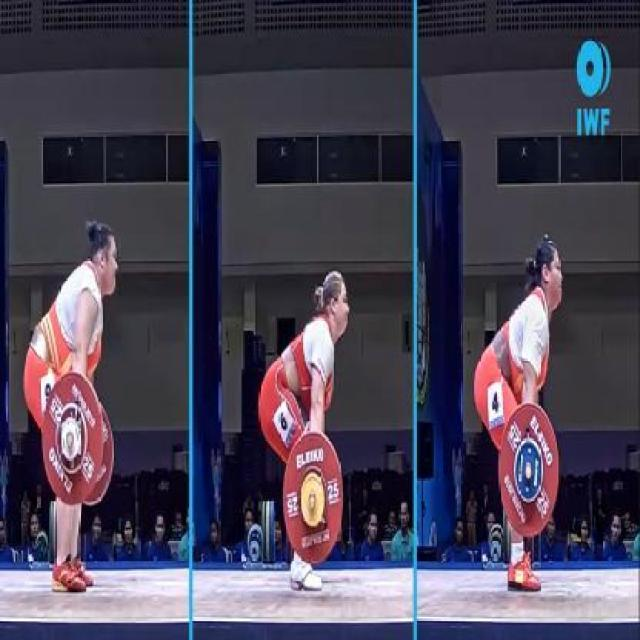barbell: (278, 428, 350, 566), (37, 368, 106, 507), (495, 403, 563, 542)
